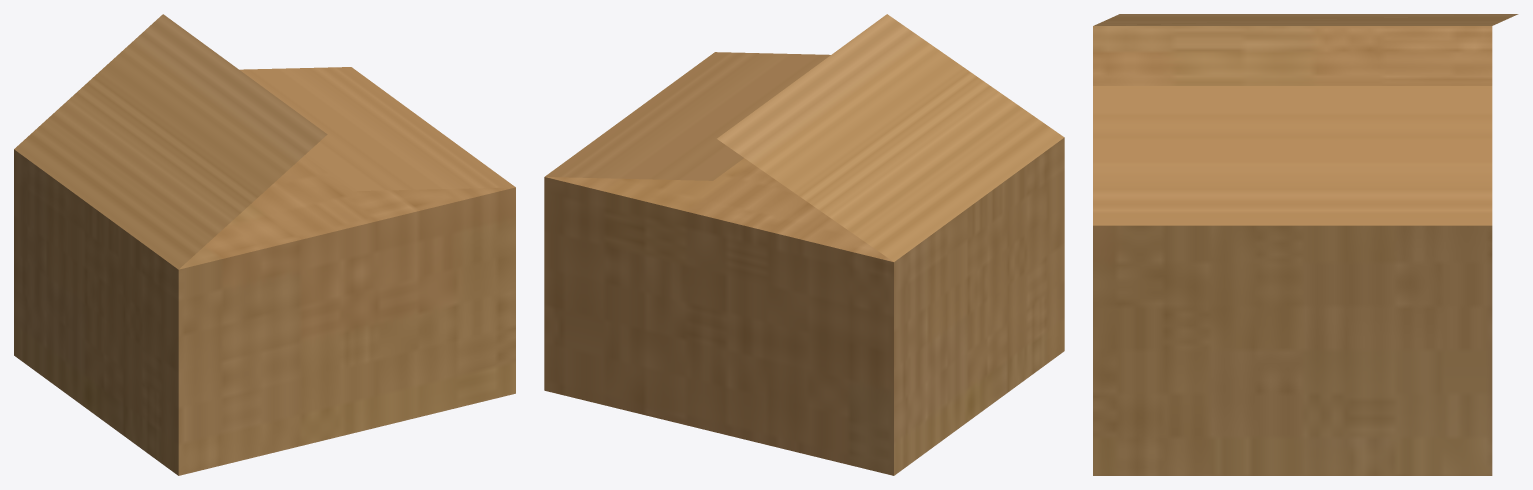
Rendered from CardboadBox.fbx.
The picture shows the model from 3 angles, left to right: view 1: azimuth 30°, elevation 25°; view 2: azimuth 150°, elevation 25°; view 3: azimuth 270°, elevation 25°; orthographic projection. The views are drawn at different scales.
Parts seen in each view (by area): view 1: Carboard_box; view 2: Carboard_box; view 3: Carboard_box.
Boxes of the visible parts, box(x1,y1,x2,y2) form: Carboard_box: box(14, 14, 515, 475); Carboard_box: box(544, 14, 1064, 475); Carboard_box: box(1093, 14, 1518, 475).
Size of the model in its own units: 237 by 198 by 214.
